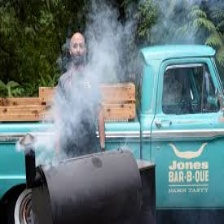smoke: (37, 72, 105, 153)
